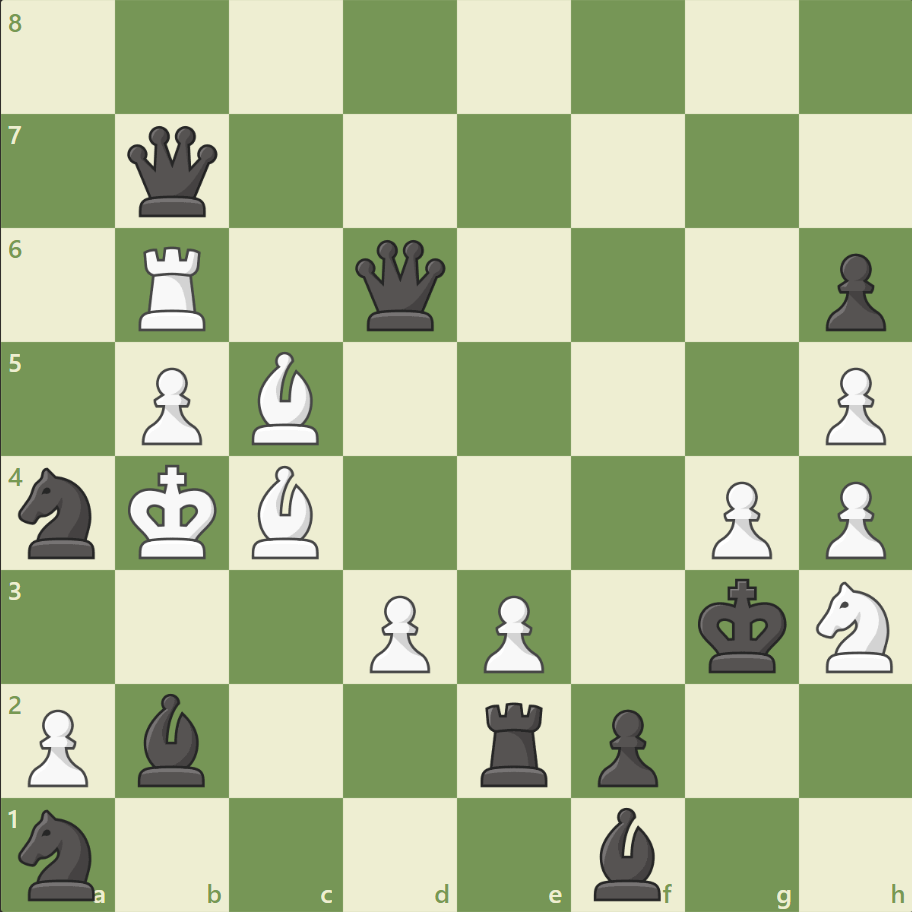B: (244, 460, 328, 563), (244, 347, 328, 449)
K: (124, 458, 224, 566)
N: (806, 575, 903, 677)
P: (133, 359, 208, 450), (701, 473, 776, 564), (474, 586, 549, 677), (20, 700, 95, 791), (815, 359, 889, 450), (815, 473, 889, 564), (361, 586, 435, 677)
R: (133, 239, 215, 336)
b: (131, 687, 215, 790), (585, 801, 669, 904)
k: (692, 571, 792, 679)
n: (11, 461, 108, 564), (11, 802, 108, 904)
p: (815, 246, 889, 337), (588, 700, 662, 791)
q: (124, 122, 223, 222), (351, 236, 450, 335)
r: (473, 693, 556, 790)
